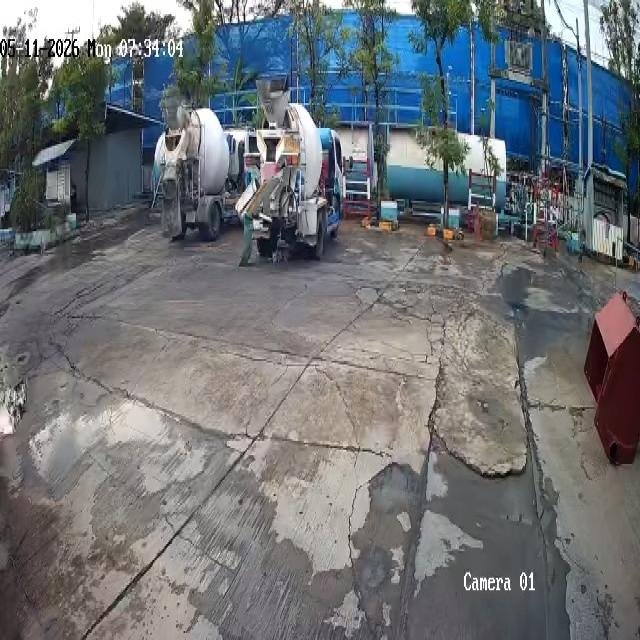cement_mixer_truck: (237, 74, 340, 265), (151, 79, 252, 244)
